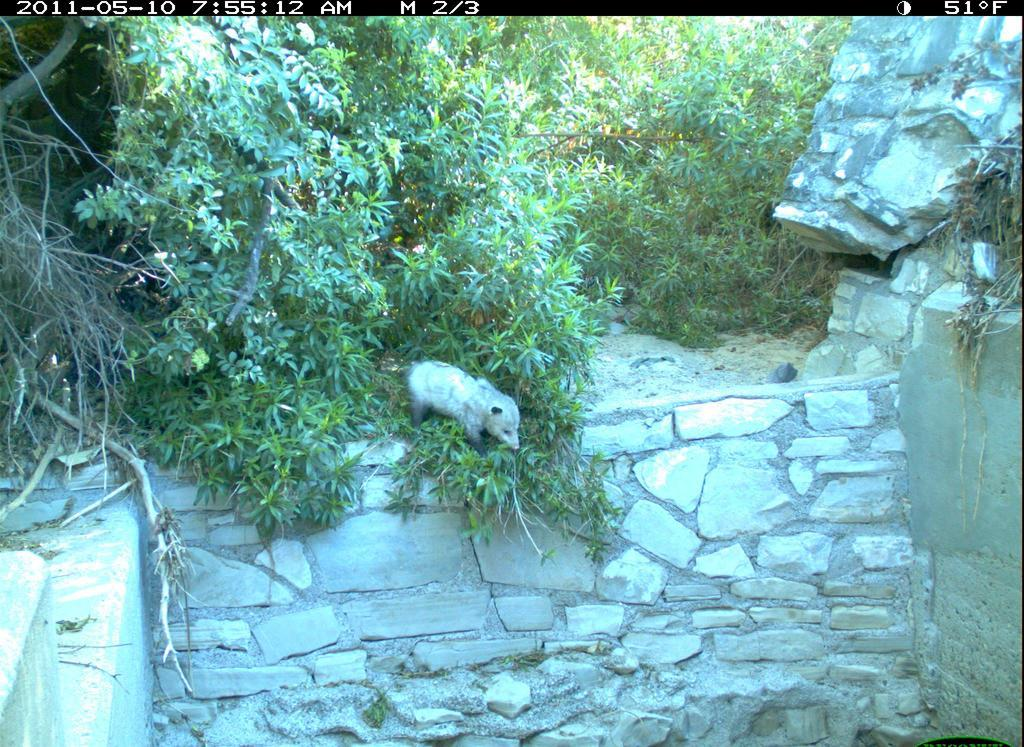opossum: (378, 346, 527, 470)
